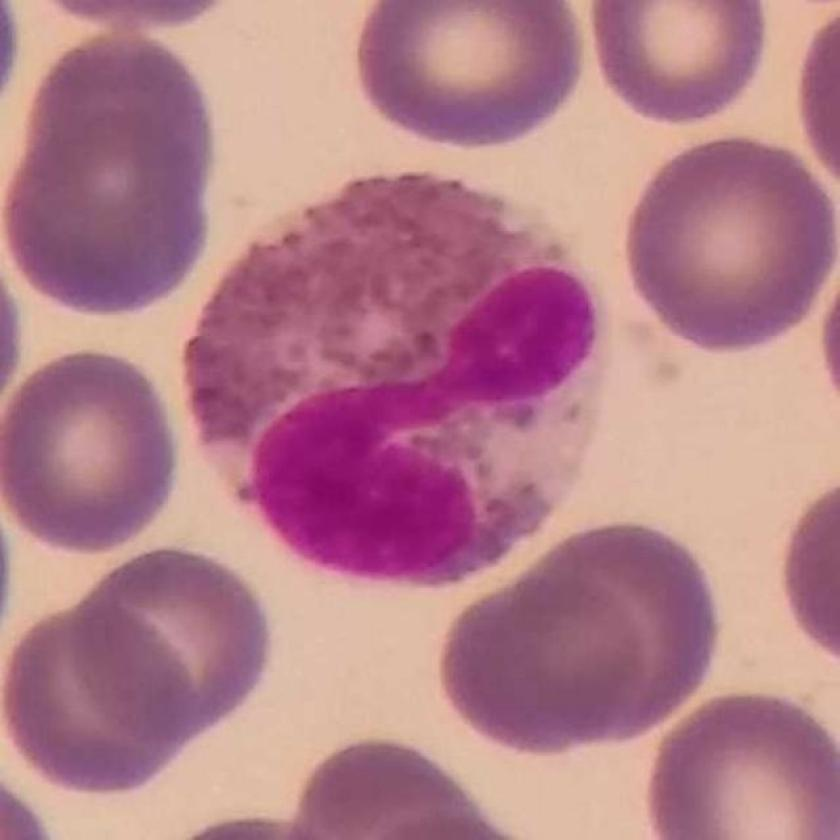eosinophil: (177, 168, 615, 592)
